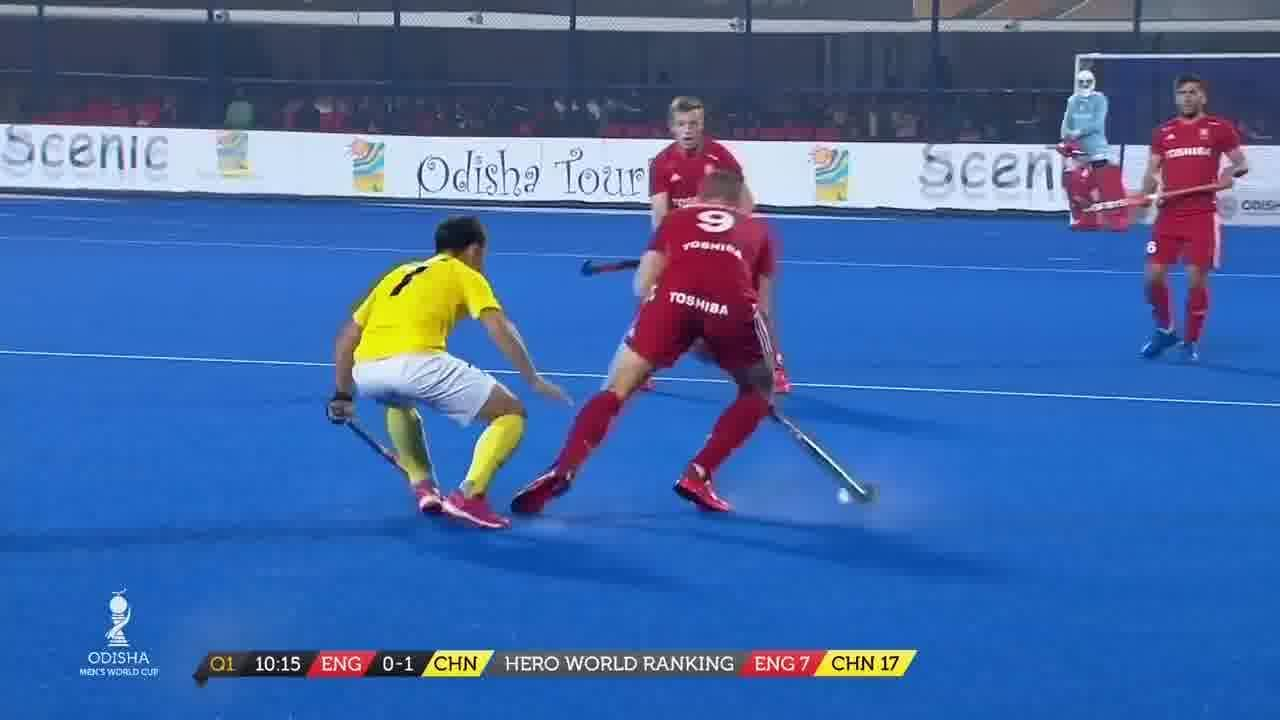ball: (824, 472, 858, 508)
